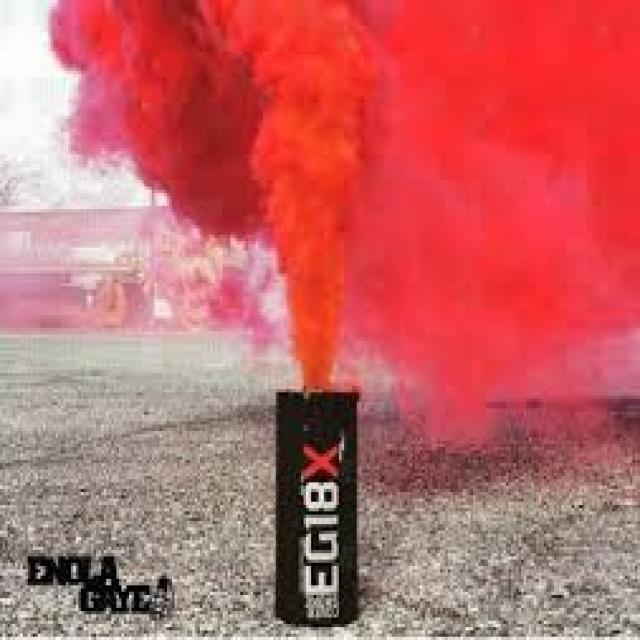Smoke: (49, 0, 640, 455)
